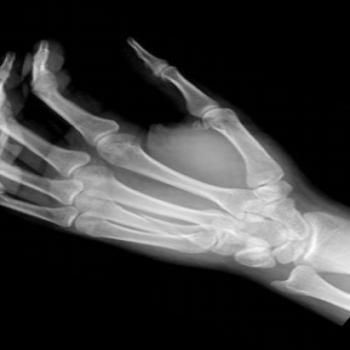Fracture: (139, 214, 172, 234)
